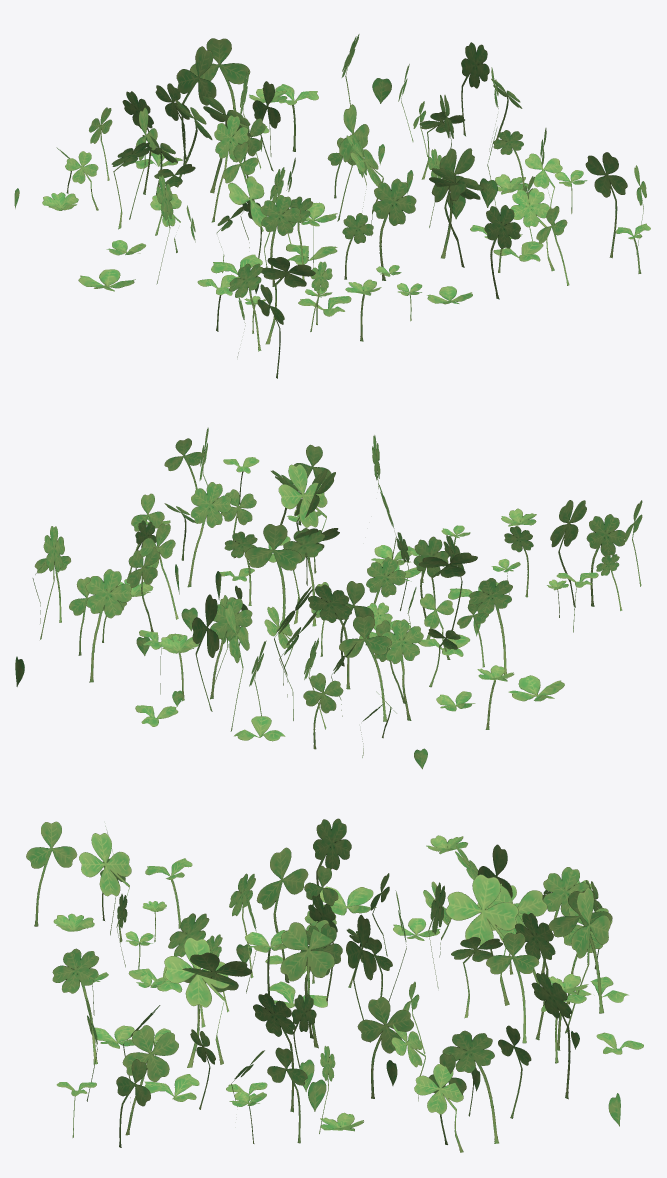
Rendered from LeafSetD_21.fbx.
3 views of the same model, one above another, from view 1: azimuth 30°, elevation 25°; view 2: azimuth 150°, elevation 25°; view 3: azimuth 270°, elevation 25° (orthographic). The views are drawn at different scales.
Parts seen in each view (by area): view 1: LeafSetD_21; view 2: LeafSetD_21; view 3: LeafSetD_21.
Boxes of the visible parts, x1=… form: LeafSetD_21: x1=14, y1=34, x2=650, y2=378; LeafSetD_21: x1=15, y1=427, x2=642, y2=769; LeafSetD_21: x1=26, y1=818, x2=643, y2=1152.
Size of the model in its own units: 2.2 by 0.5481 by 2.15.
